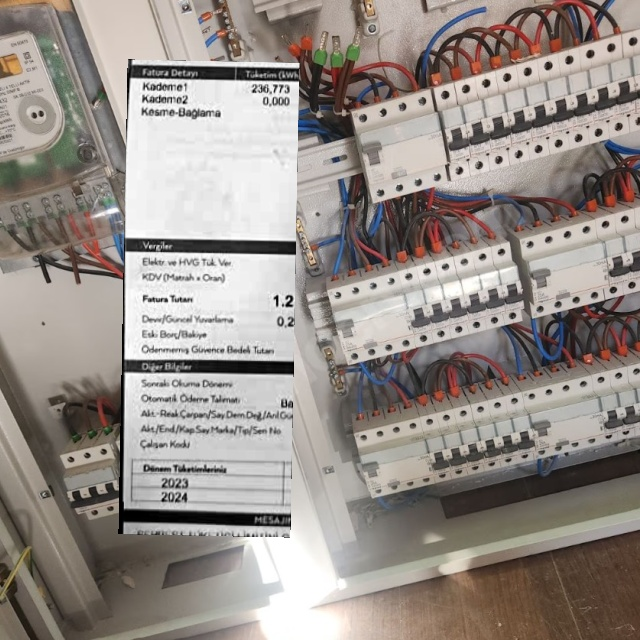electricity-bill: (117, 59, 299, 537)
